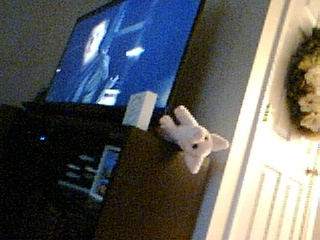piggy: (156, 103, 230, 175)
